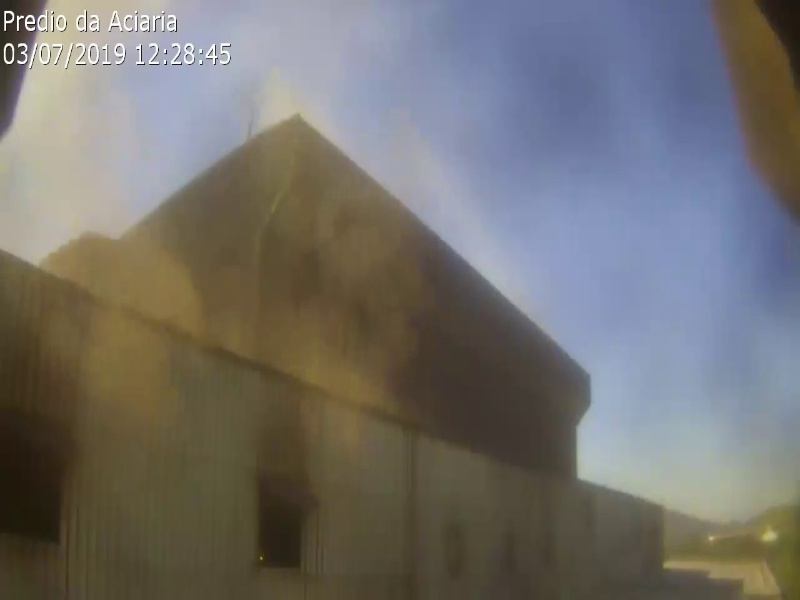Pessimo: (95, 238, 189, 310), (90, 313, 184, 385), (164, 245, 258, 317), (204, 286, 298, 358), (274, 321, 368, 393), (302, 213, 396, 285), (316, 291, 410, 363)
